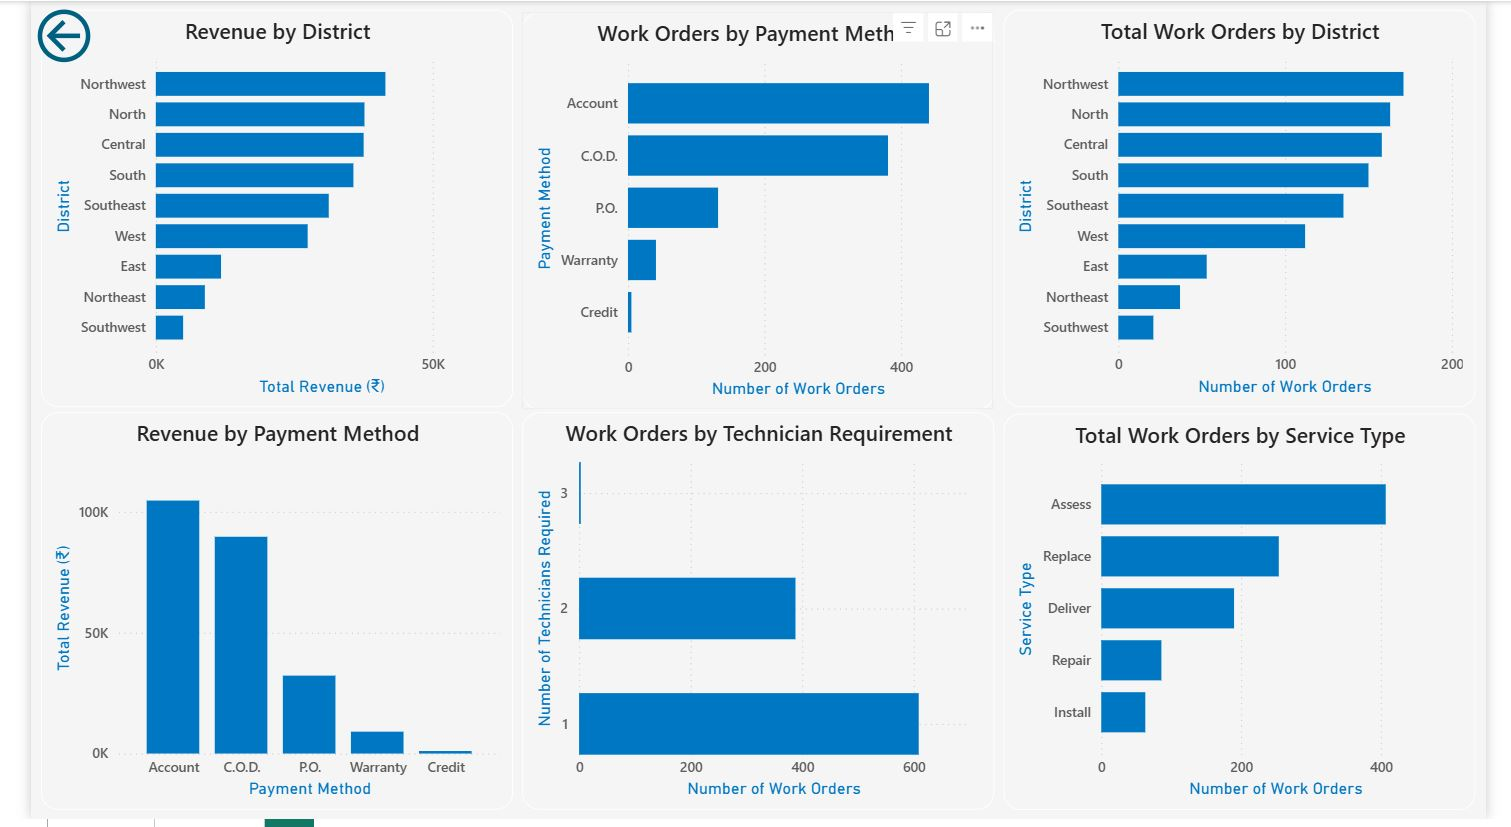

The page's visual inventory and layout, read from the dashboard file:
{"tool":"powerbi","page":{"name":"Report 2","canvas":[1280,720],"ordinal":1},"visuals":[{"type":"barChart","title":"Revenue by District","fields":{"Category":["work_orders.District"],"Y":["Sum(work_orders.Revenue)"]},"box":[8.5,7.3,415,349.8],"z":0},{"type":"clusteredBarChart","title":"Work Orders by Technician Requirement","fields":{"Category":["labour_rate.technician "],"Y":["work_orders.Total Work Orders"]},"box":[432.1,361.9,415.2,349.8],"z":1000},{"type":"barChart","title":"Work Orders by Payment Method","fields":{"Category":["work_orders.Payment"],"Y":["work_orders.Total Work Orders"]},"box":[432.1,9.7,415,349.8],"z":2000},{"type":"clusteredBarChart","title":"Total Work Orders by District","fields":{"Category":["work_orders.District"],"Y":["work_orders.Total Work Orders"]},"box":[855.8,7.3,415.2,349.8],"z":3000},{"type":"clusteredColumnChart","title":"Revenue by Payment Method","fields":{"Category":["work_orders.Payment"],"Y":["Sum(work_orders.Revenue)"]},"box":[8.5,361.9,415.2,349.8],"z":4000},{"type":"clusteredBarChart","title":"Total Work Orders by Service Type","fields":{"Category":["work_orders.Service"],"Y":["work_orders.Total Work Orders"]},"box":[855.8,363.1,415.2,348.6],"z":5000},{"type":"actionButton","box":[0,0,88.4,60.5],"z":5001}]}

Visuals, with their boxes in screenshot pixels (x1, y1, x2, y2), scaled from the page's 1280x720 canvas onto the 1511x827 screenshot:
"Revenue by District" barChart: crop(10, 8, 500, 410)
"Work Orders by Technician Requirement" clusteredBarChart: crop(510, 416, 1000, 817)
"Work Orders by Payment Method" barChart: crop(510, 11, 1000, 413)
"Total Work Orders by District" clusteredBarChart: crop(1010, 8, 1500, 410)
"Revenue by Payment Method" clusteredColumnChart: crop(10, 416, 500, 817)
"Total Work Orders by Service Type" clusteredBarChart: crop(1010, 417, 1500, 817)
actionButton: crop(0, 0, 104, 69)
